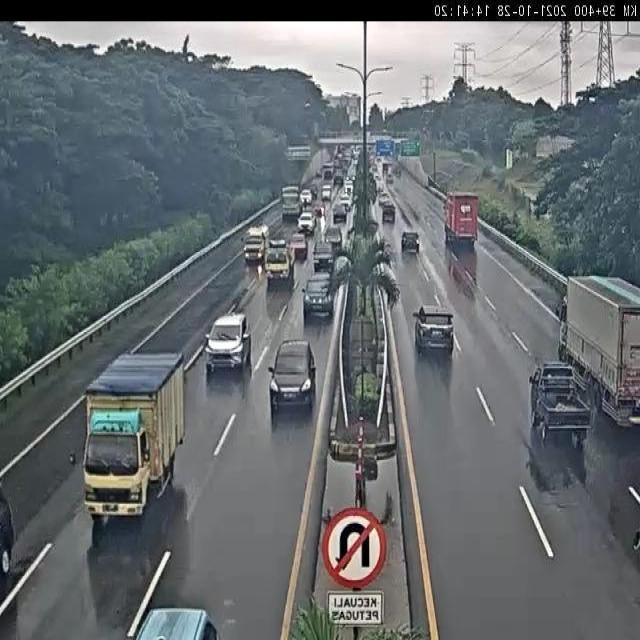Car: (268, 338, 316, 415), (205, 311, 253, 375), (412, 304, 453, 354), (300, 275, 336, 320), (312, 242, 334, 274), (288, 232, 308, 261), (324, 225, 342, 252), (297, 212, 315, 234), (333, 203, 347, 223), (299, 188, 312, 205)
Truck: (84, 350, 187, 517), (561, 278, 640, 430), (528, 361, 594, 446), (444, 192, 479, 248), (264, 242, 294, 288), (243, 223, 270, 266), (281, 183, 302, 218), (401, 232, 420, 254)
